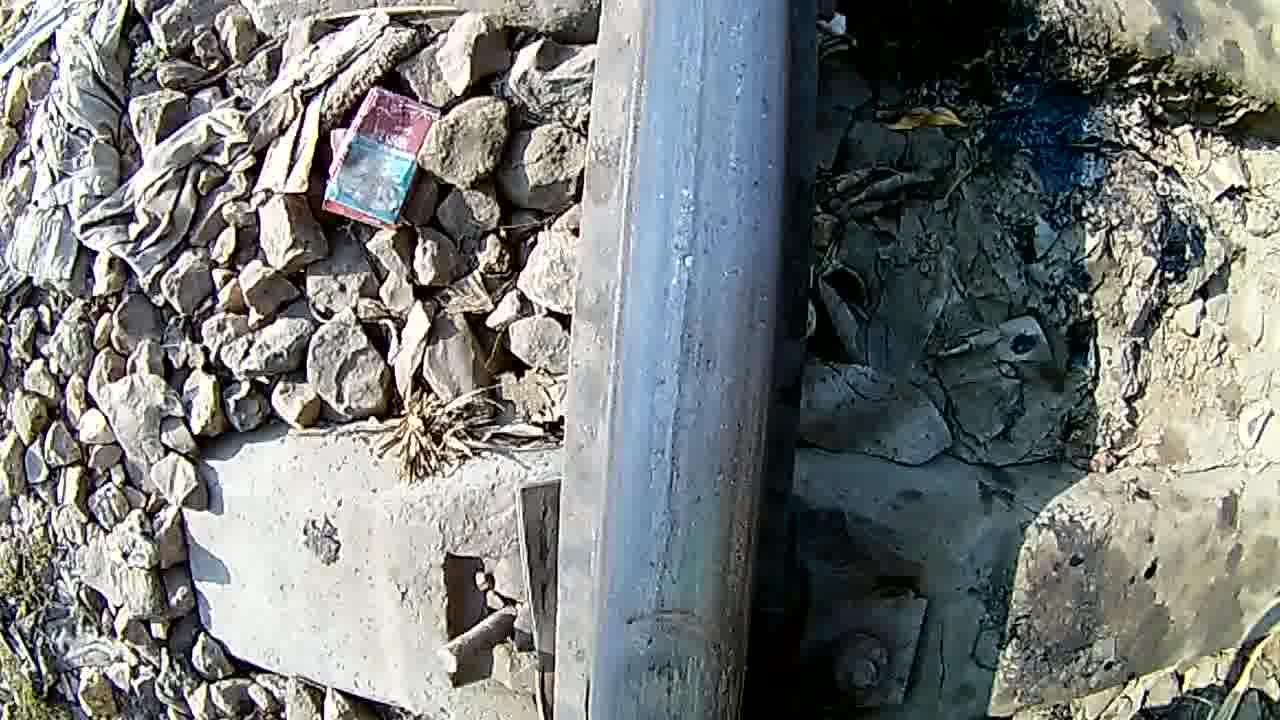bolt_missing: (592, 527, 750, 720)
